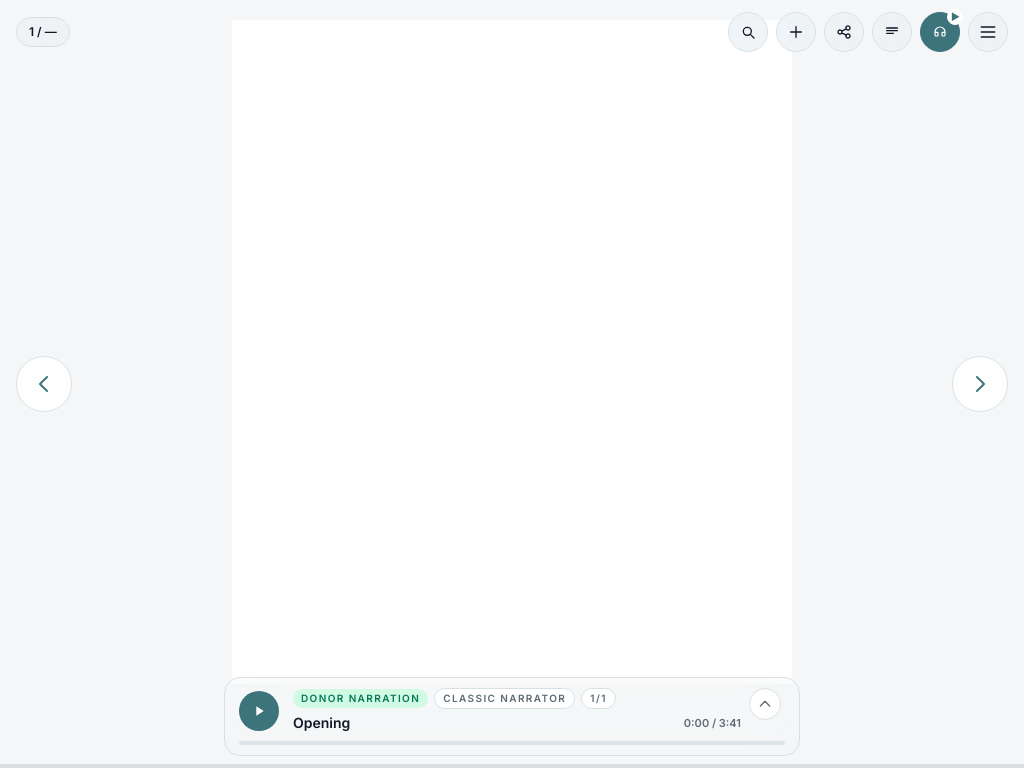
Test case: Reader component › shows the donor narration mini-player and expands into the full controls on demand
Check: the text "Donor narration" is shown, box [293,689,428,708]
Check: the text "1/1" is shown, box [581,688,616,709]
Click the button with aria-label "Expand narration player" at (537, 710), box [289,688,785,733]
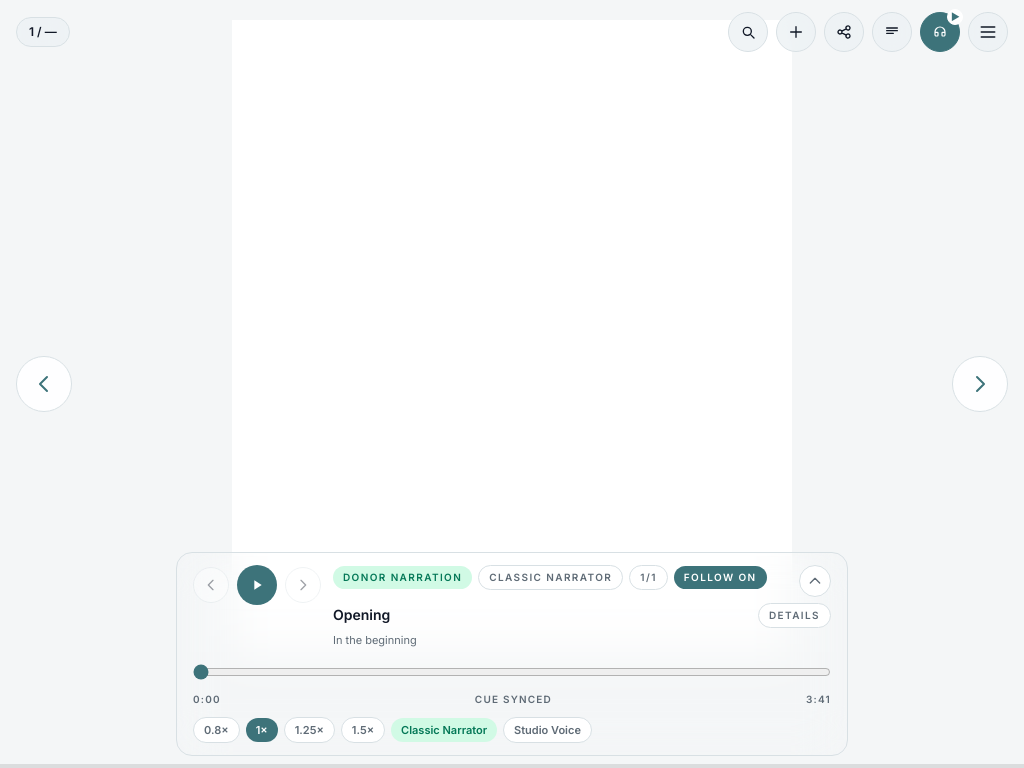
Check: the slider named "Narration playback position" is shown, box [193,664,831,680]
Check: the button named "Collapse narration player" is shown, box [799,565,831,597]
